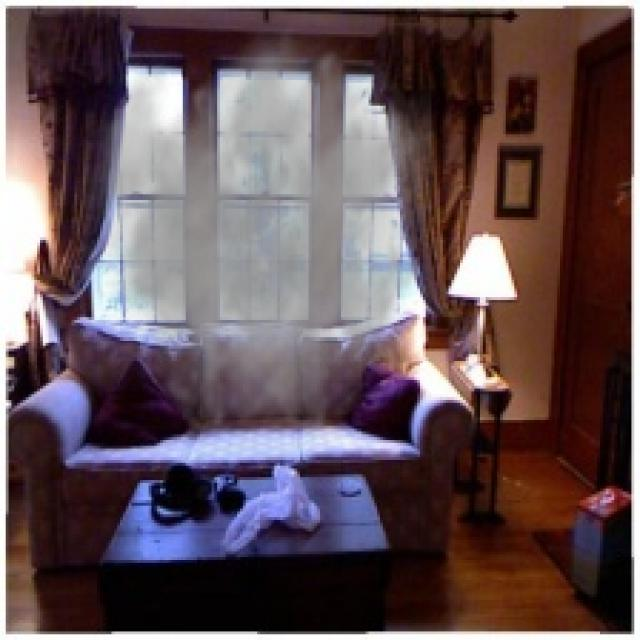smoke: (66, 17, 431, 443)
